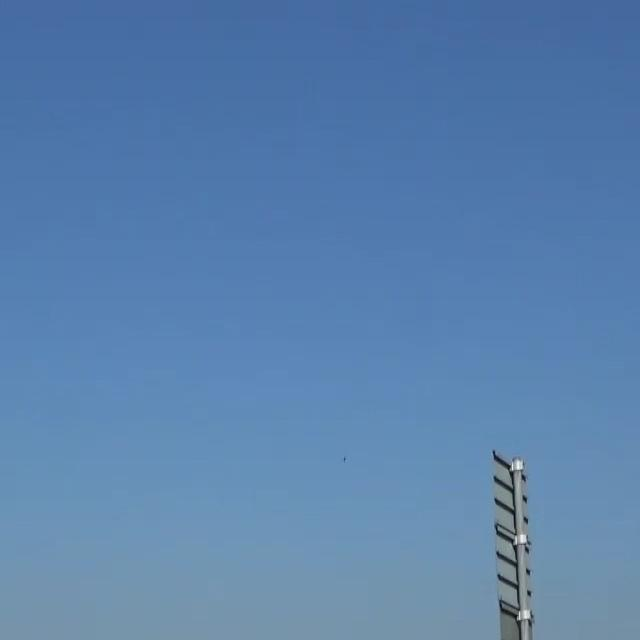bird: (339, 452, 349, 463)
